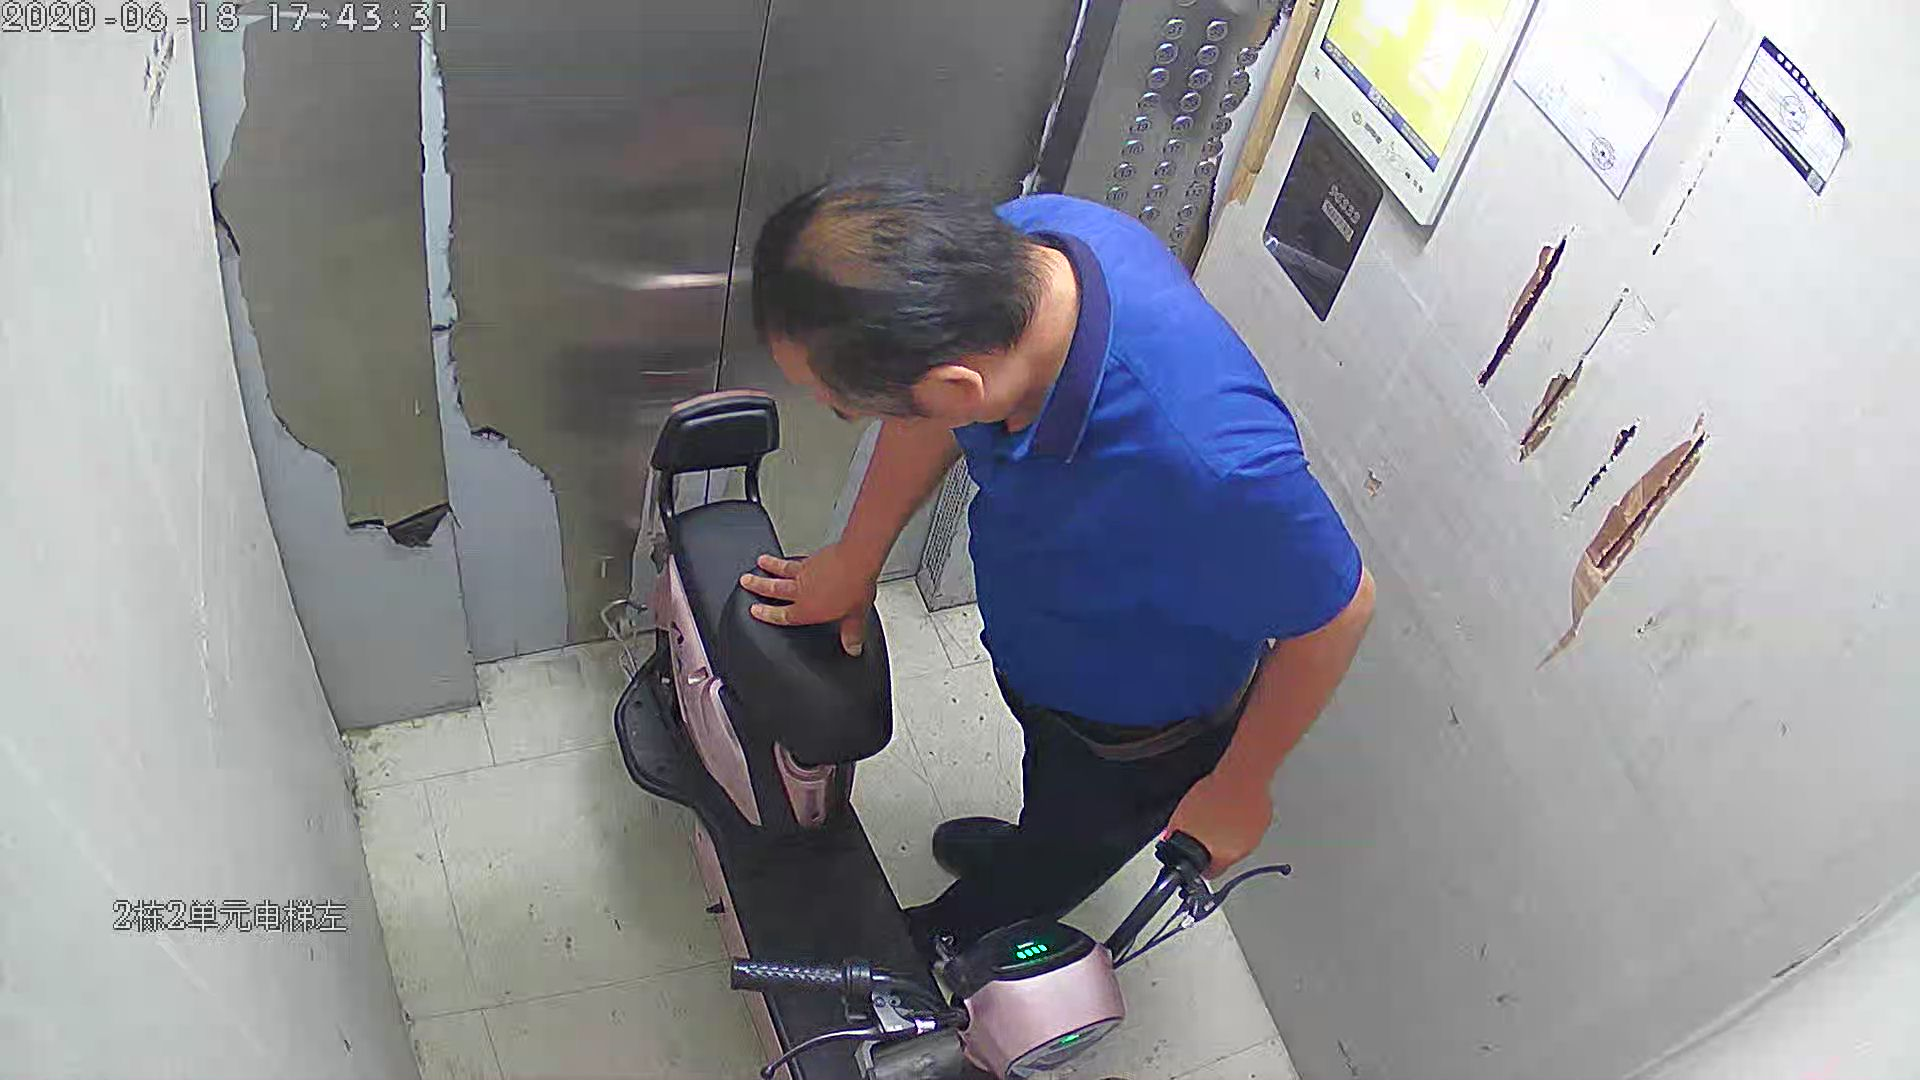Electric-bicycle: (636, 393, 1286, 1080)
